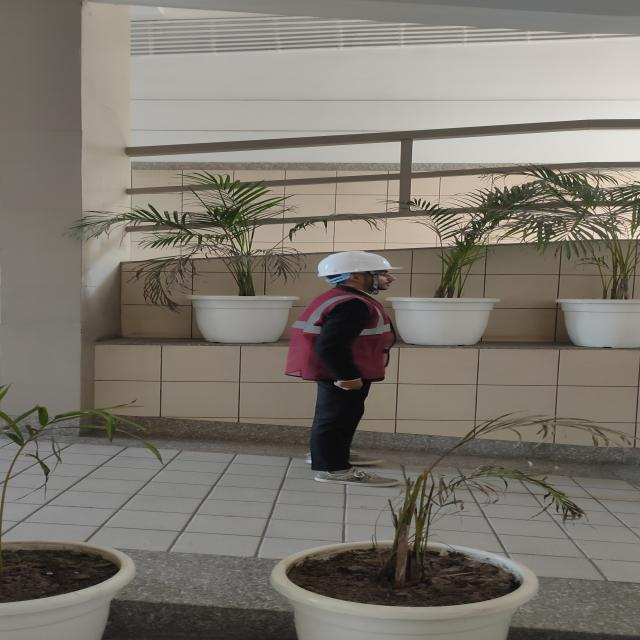safe: (286, 251, 404, 485)
